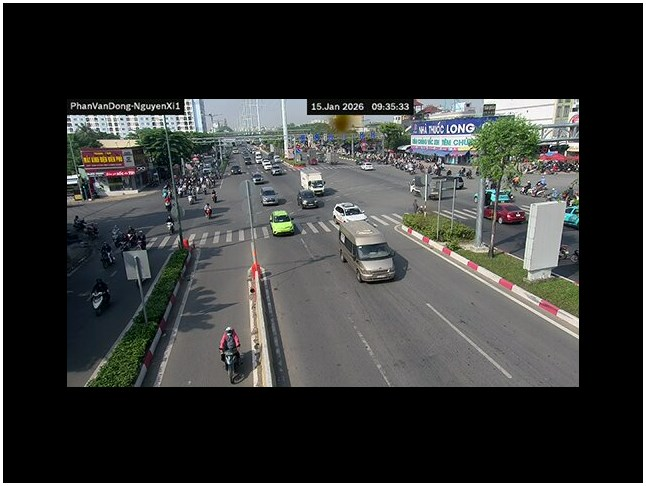car: (483, 202, 527, 226), (333, 202, 366, 225), (269, 209, 296, 237), (297, 188, 320, 208), (260, 186, 283, 206), (269, 162, 287, 176), (251, 173, 267, 184)
truck: (336, 212, 398, 283)
